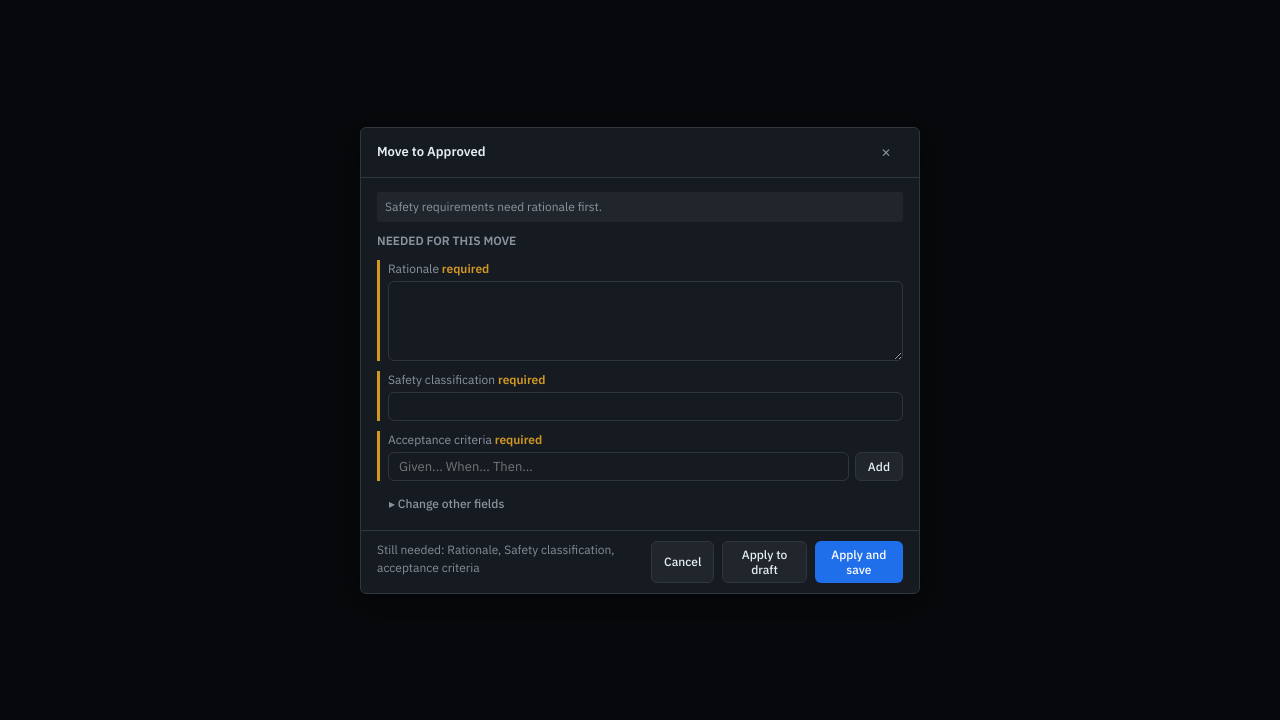
Test case: TransitionDialog › applies the typed values and can save at once
The image size is (1280, 720).
Later steps or results of the test are not shown.
Step 1. Type "Because" into the text box labelled "Rationale" → (646, 320), box [388,280,903,360]
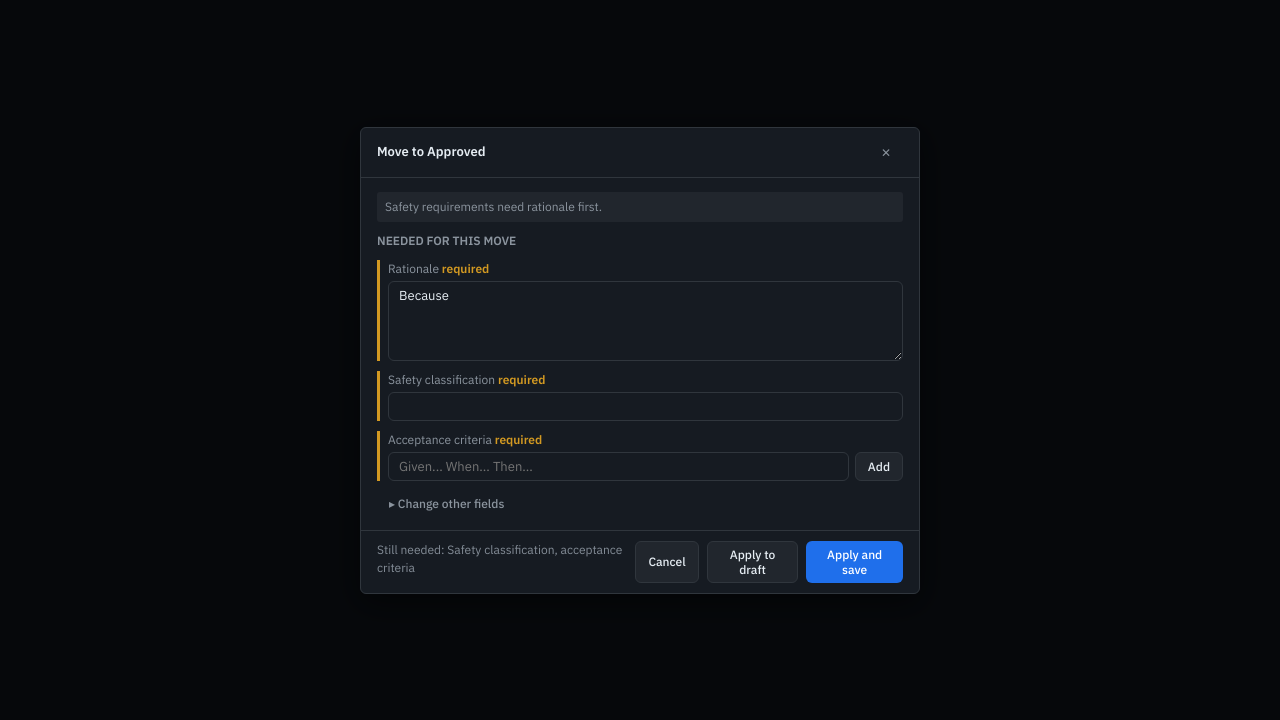
Step 2. Type "ASIL-B" into the field labelled "Safety classification" → (646, 406), box [388,392,903,420]
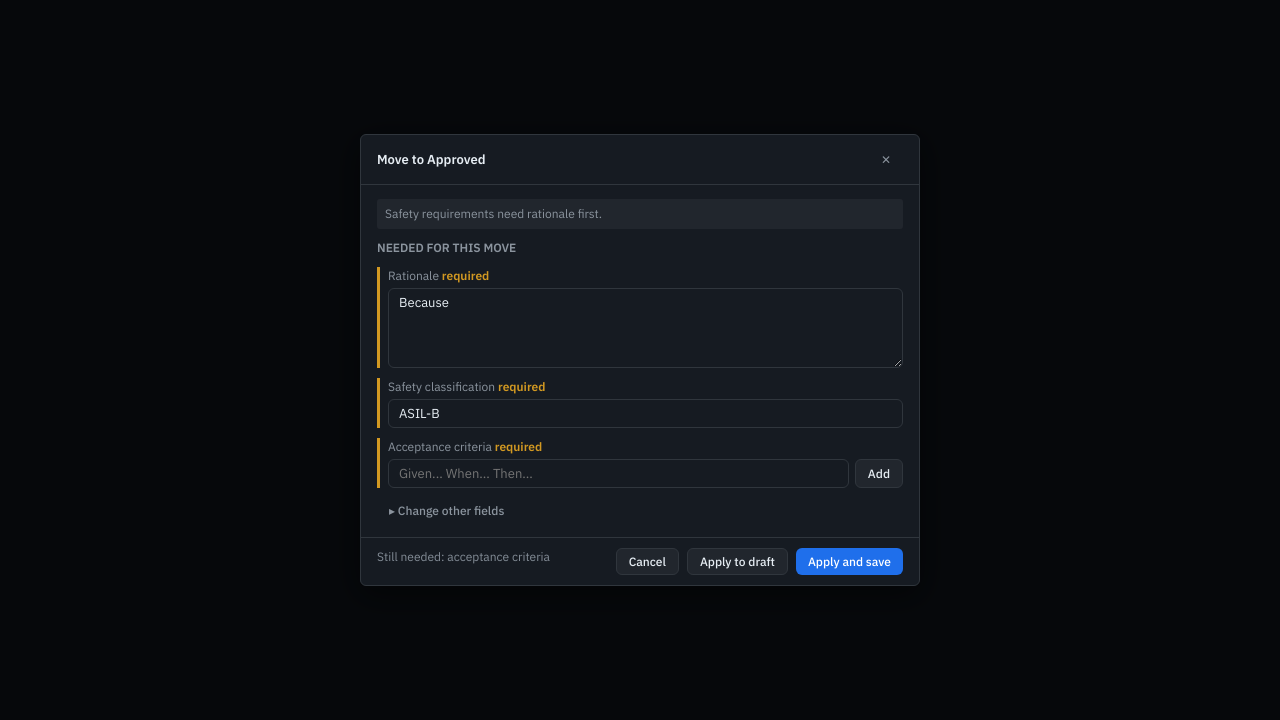
Step 3. Type "Stops in 40 m" into the field named "New acceptance criterion" → (618, 474), box [388,459,849,488]
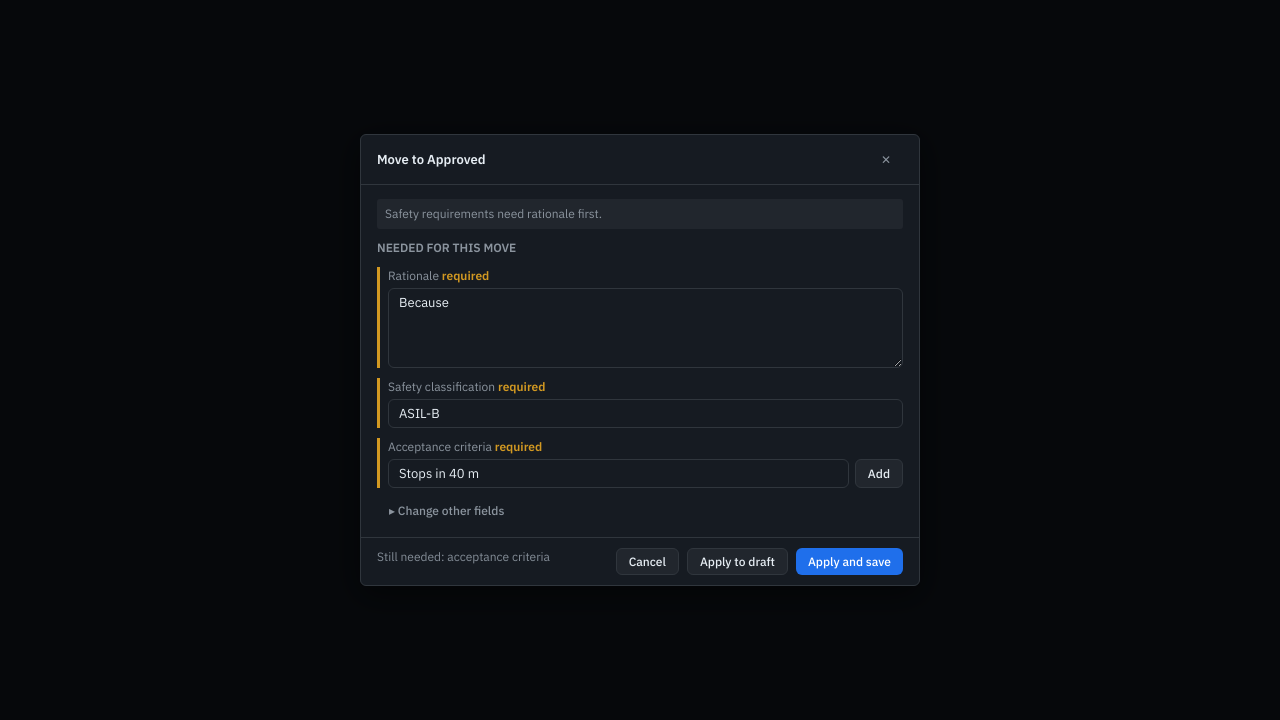
Step 4. Click the button "Add" → (879, 474), box [855,459,903,488]
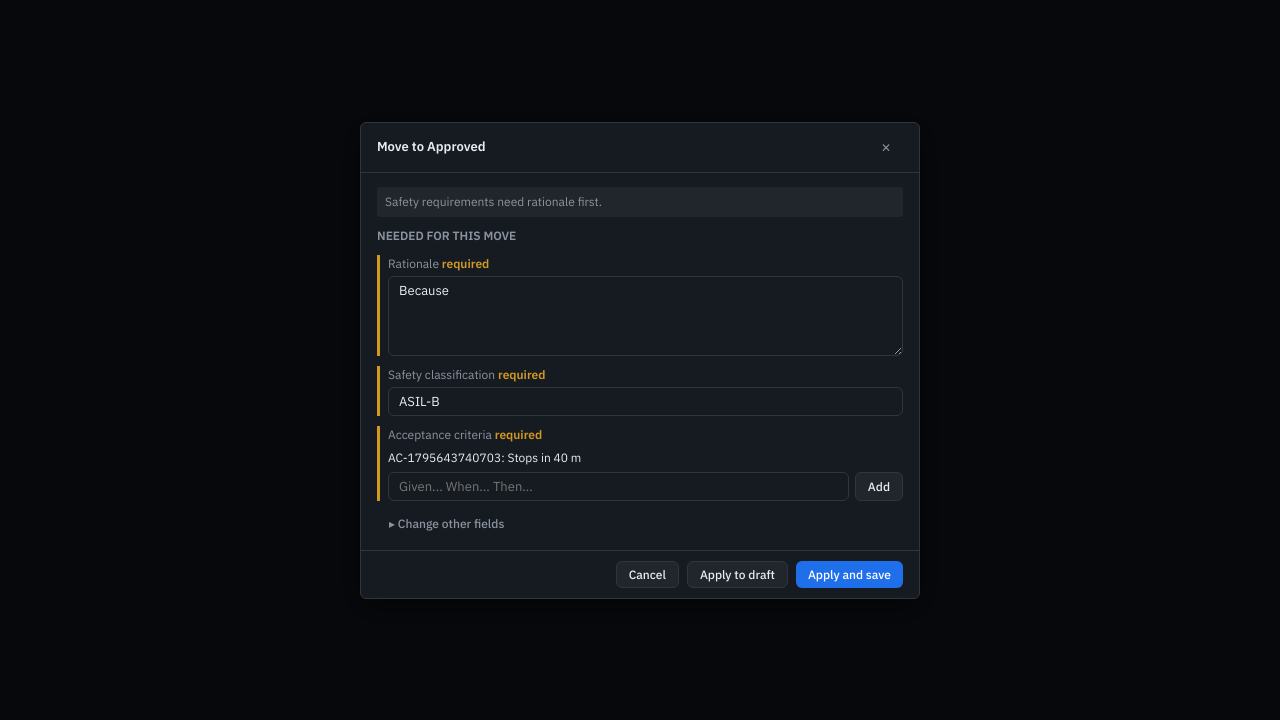
Check: the button "Apply and save" is enabled, box [796,560,903,588]
